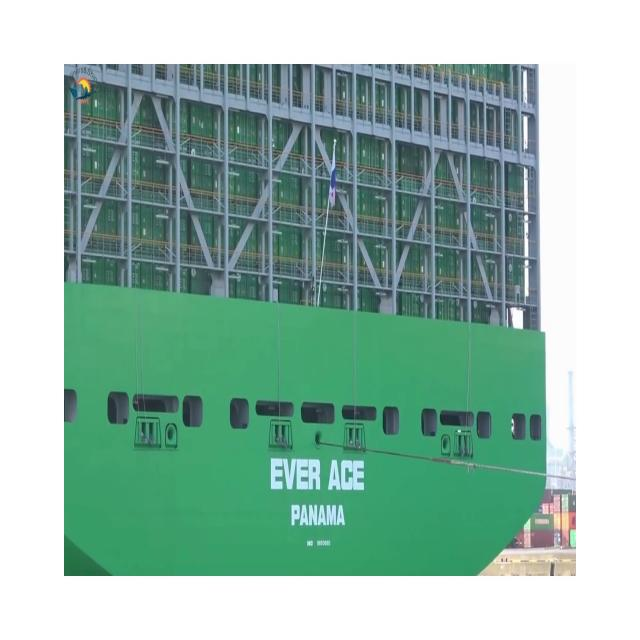OCR: (265, 443, 381, 542)
